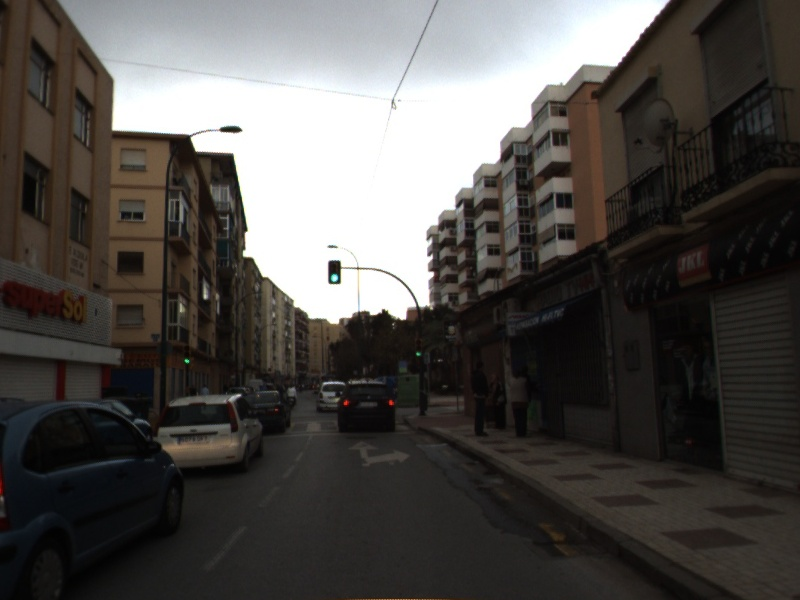STRAIGHT_RIGHT: (346, 439, 412, 468)
